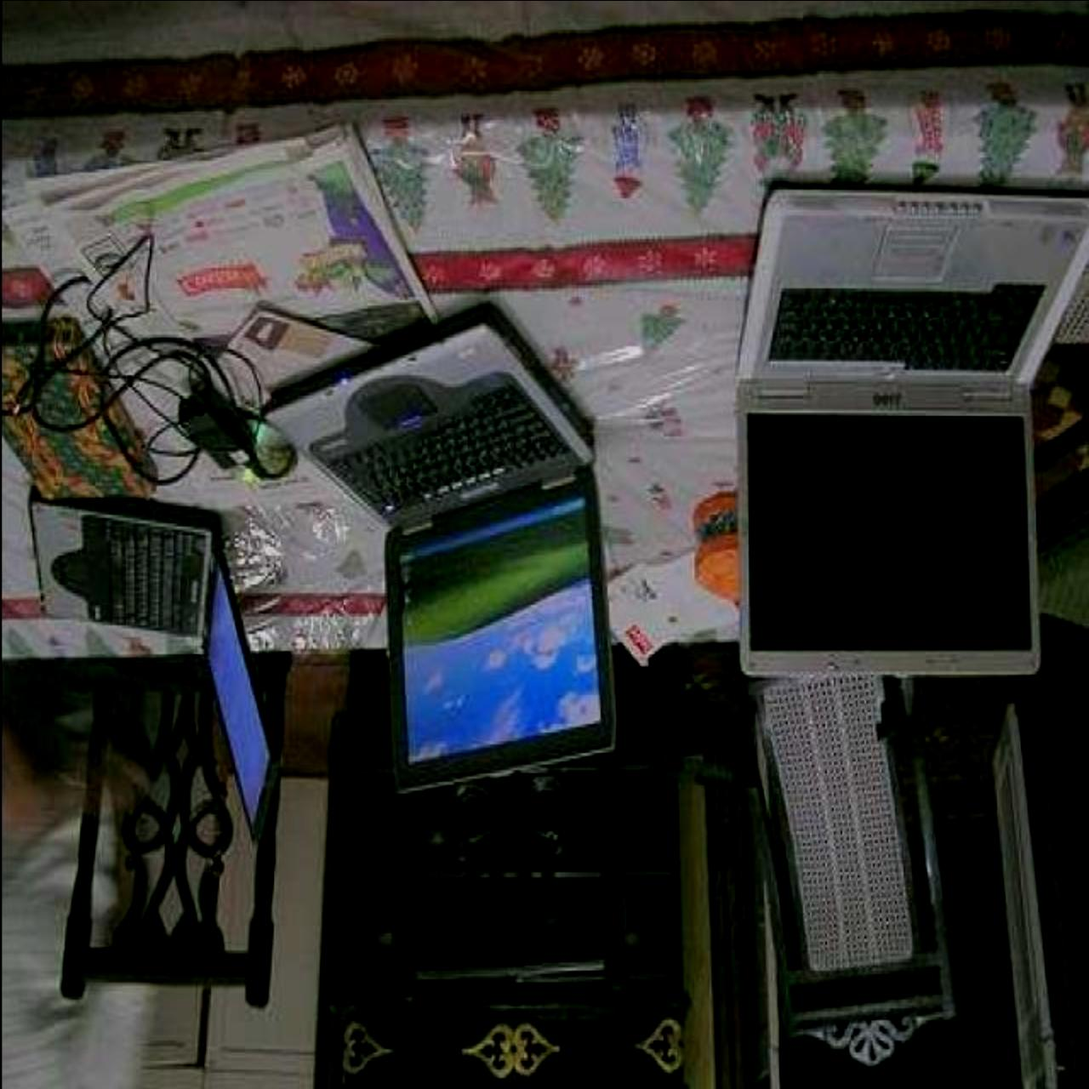laptop: (711, 155, 1089, 723), (283, 271, 615, 818), (0, 480, 279, 844)
